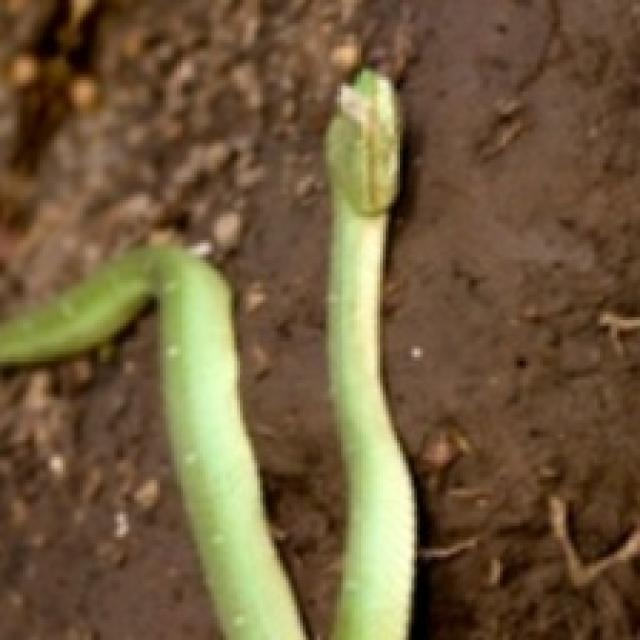north ph temple pitviper: (0, 246, 303, 637), (326, 69, 414, 637)
